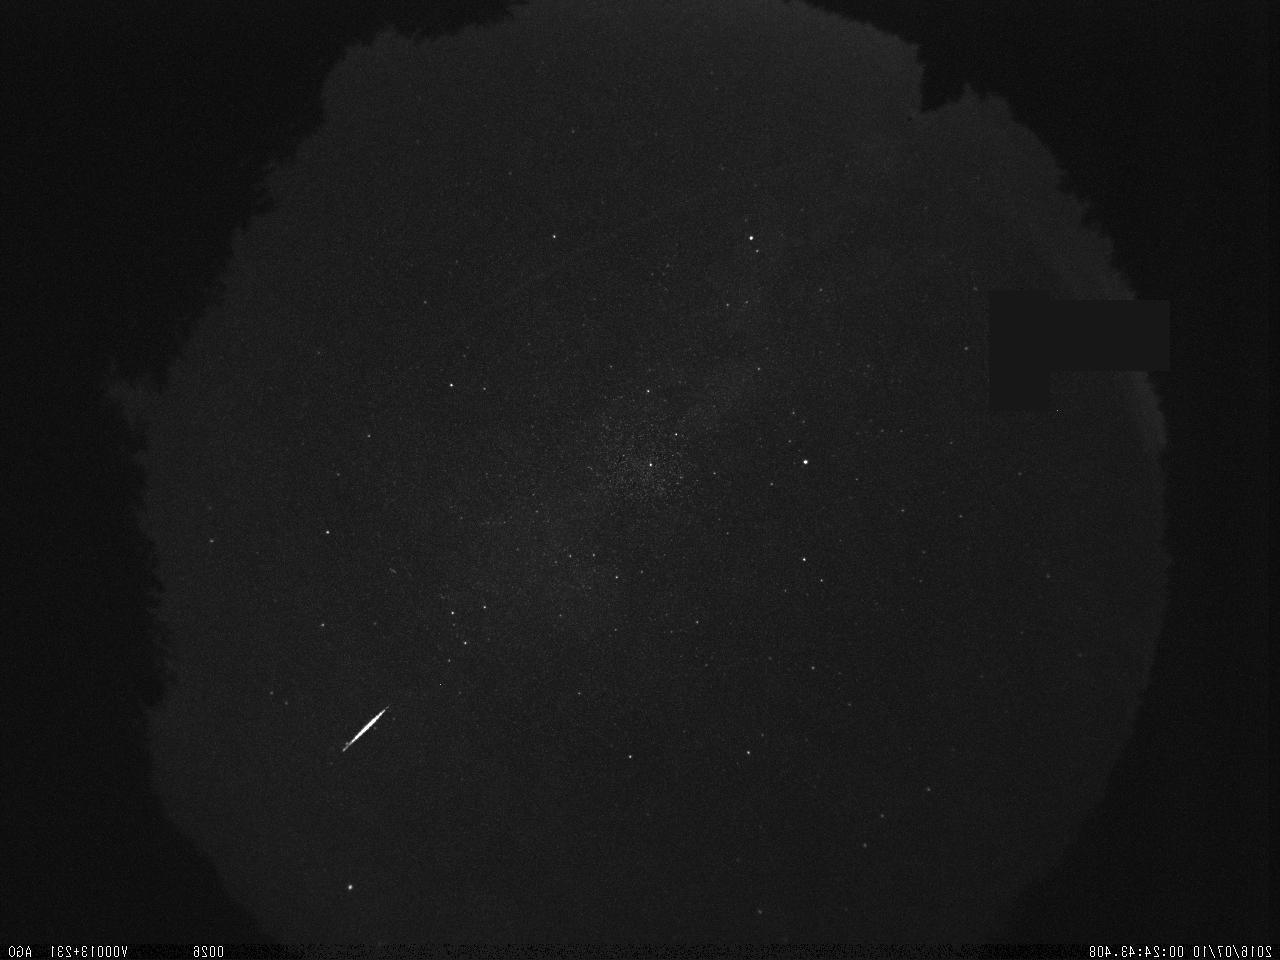meteor: (331, 698, 397, 765)
